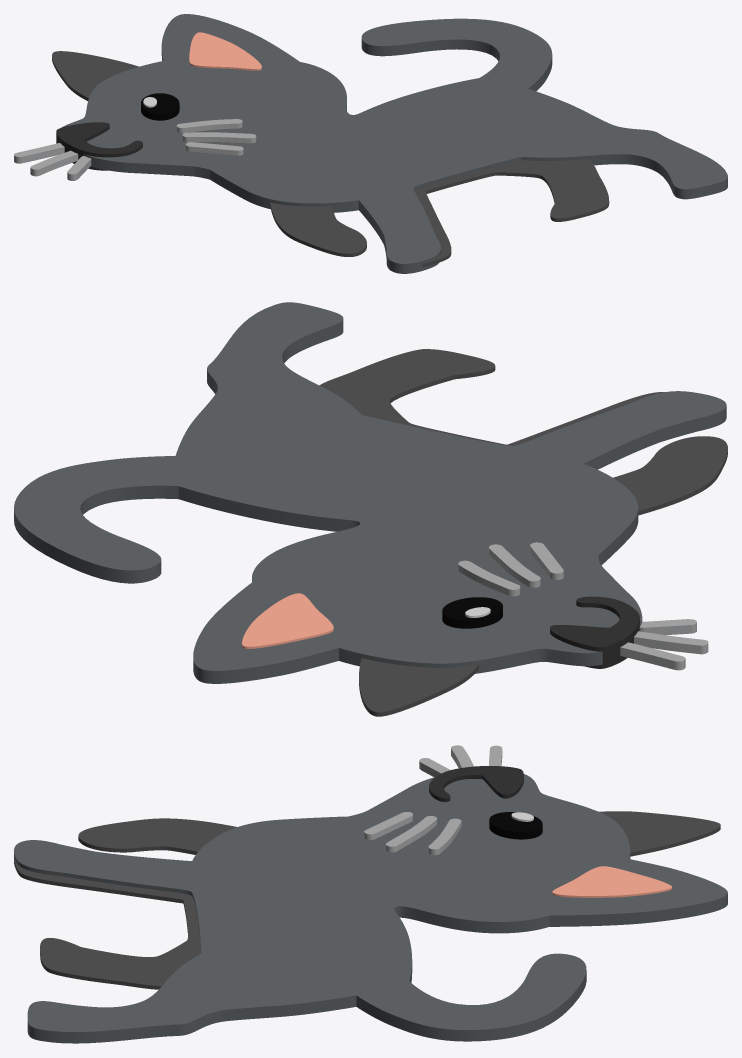
Rendered from emoji_u1f408_200d_2b1b.glb.
3 views of the same model, one above another, from view 1: azimuth 30°, elevation 25°; view 2: azimuth 150°, elevation 25°; view 3: azimuth 270°, elevation 25° (orthographic). The views are drawn at different scales.
Visible parts, largest first — view 1: emoji_u1f408_200d_2b1b; view 2: emoji_u1f408_200d_2b1b; view 3: emoji_u1f408_200d_2b1b.
Boxes of the visible parts, left/top/right/bottom form: emoji_u1f408_200d_2b1b: left=14, top=14, right=727, bottom=273; emoji_u1f408_200d_2b1b: left=14, top=302, right=727, bottom=716; emoji_u1f408_200d_2b1b: left=14, top=745, right=727, bottom=1043.
Size of the model in its own units: 0.0325 by 0.0016 by 0.034.
